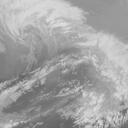cyclone: (13, 18, 85, 83)
